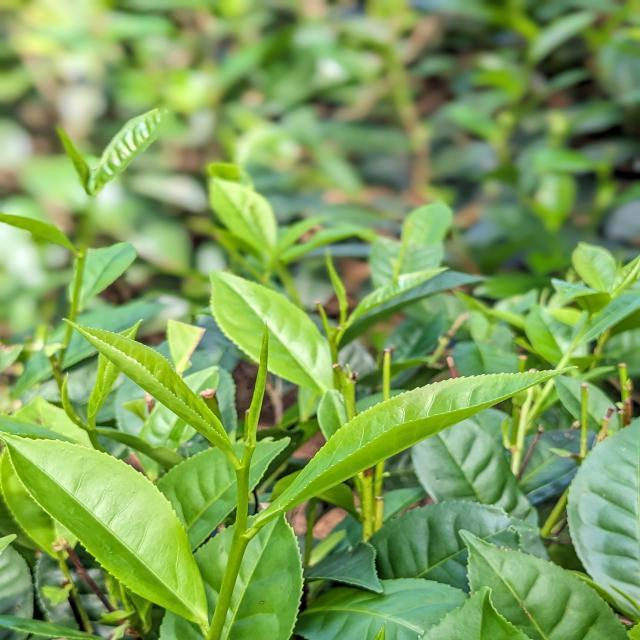Stem: (236, 465, 250, 482)
